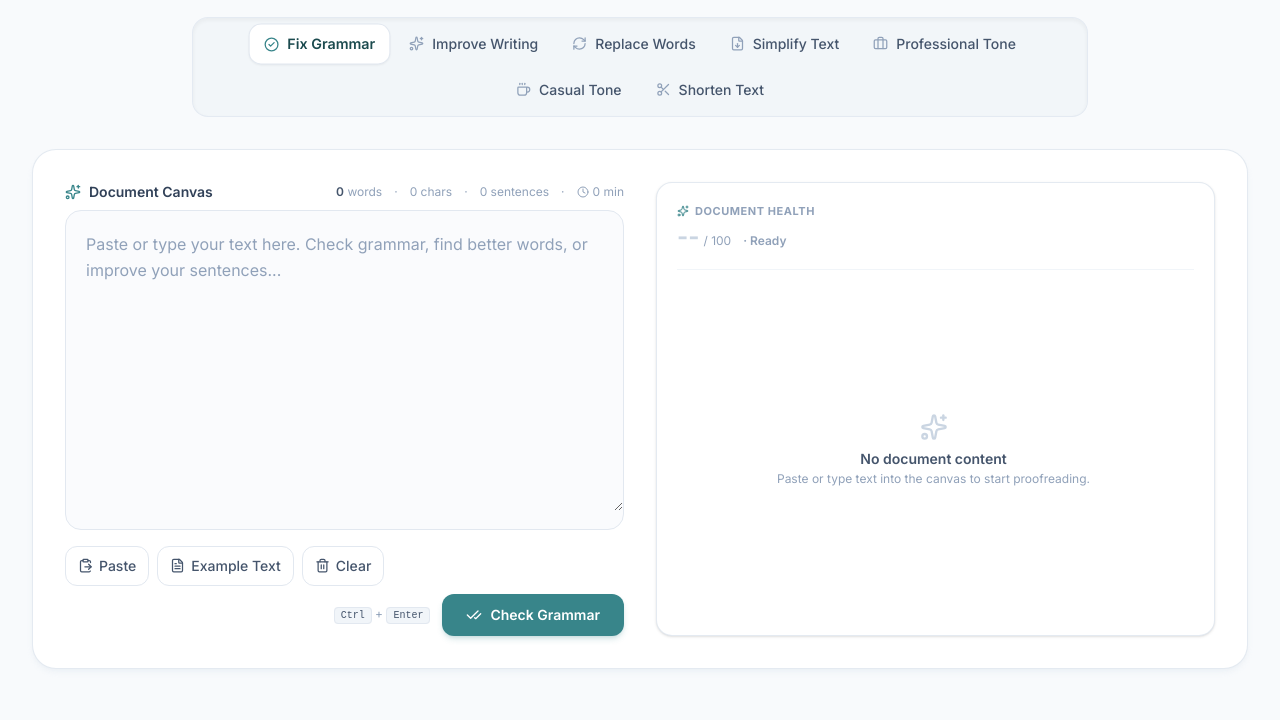
Test: React Components › WritingEditor component › does not prematurely display "All Clear" badge when text is freshly entered
(page scrolled)
Replace the text in the text box named "Original text input" with "This are an bad sentence with grammer issues." at {"x": 344, "y": 360}, box left=66, top=210, right=623, bottom=510
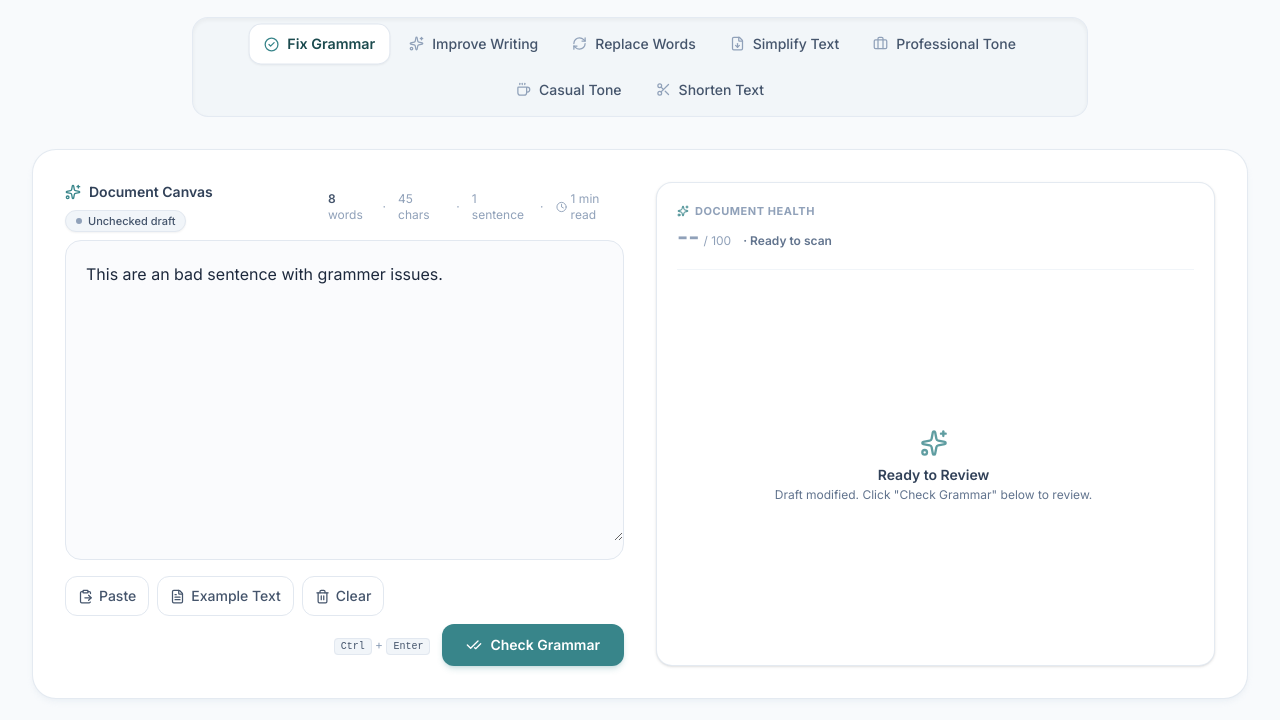
Check: the element with test id "grammar-status-unscanned" is shown, box left=65, top=210, right=186, bottom=232
